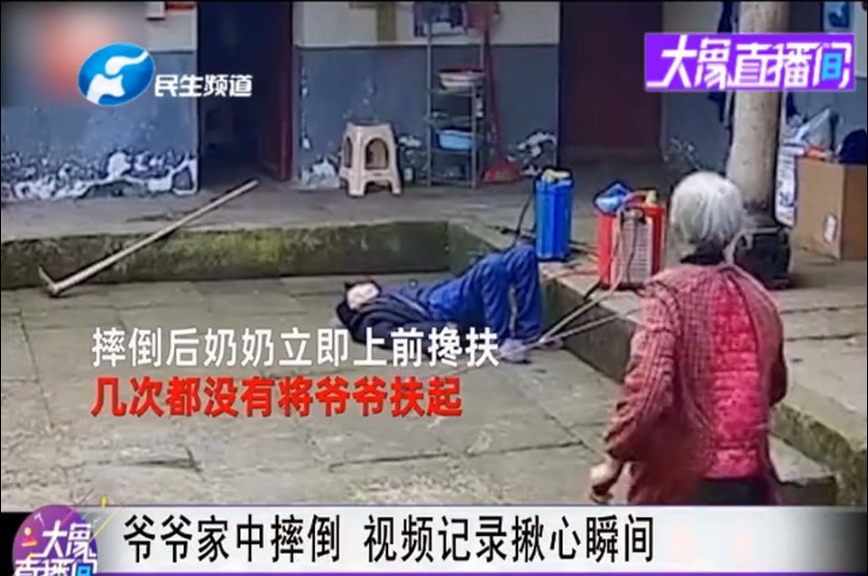fall: (321, 247, 568, 369)
nofall: (608, 155, 796, 499)
